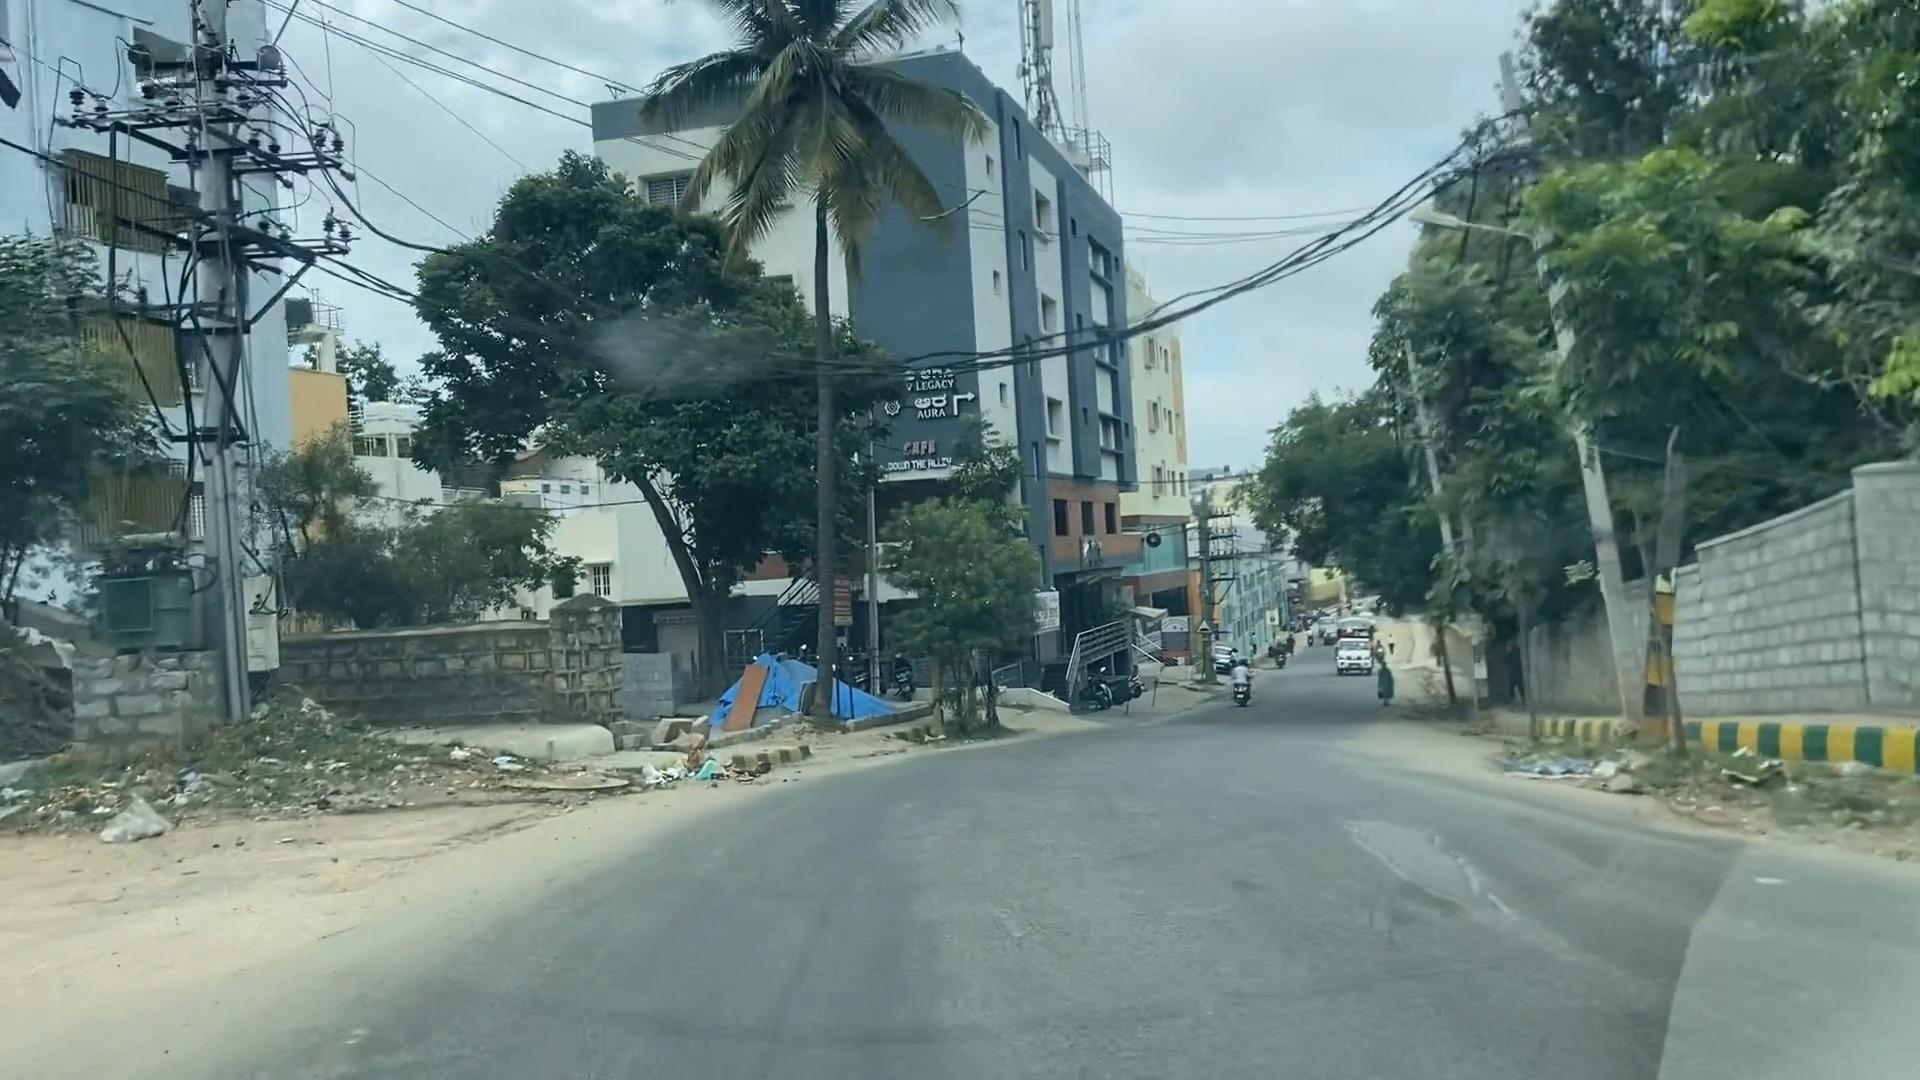LMV: (1218, 650, 1278, 737)
RoadDamages: (1167, 781, 1746, 1062)
